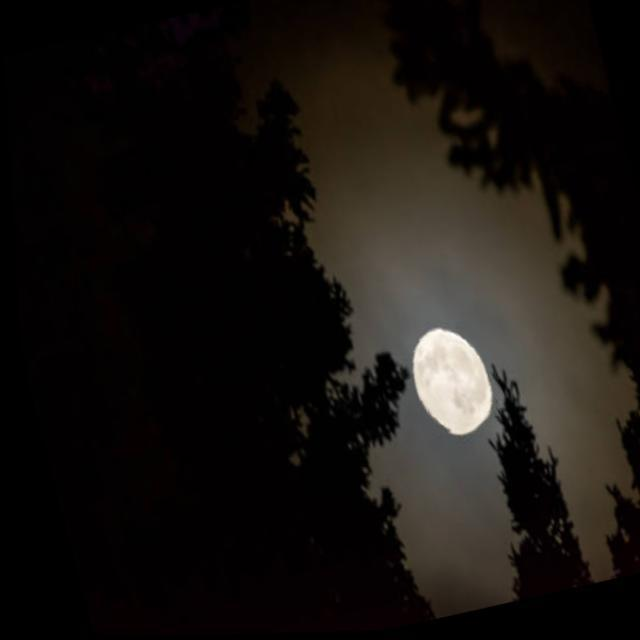moon: (398, 321, 496, 439)
